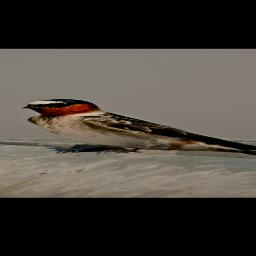Swallow: (19, 98, 256, 156)
